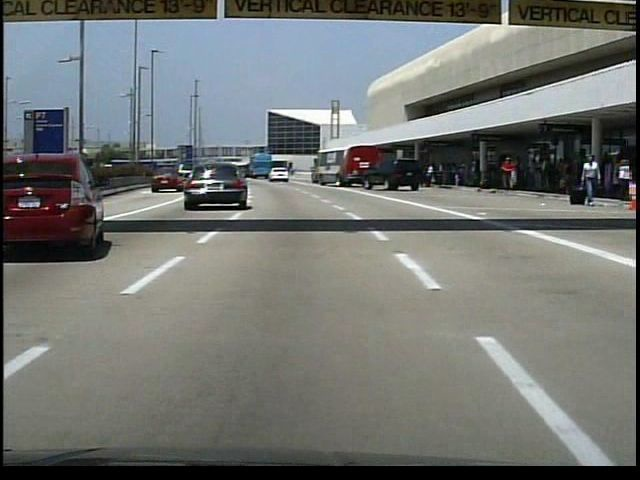person: (578, 152, 603, 207), (498, 154, 518, 191), (556, 157, 571, 194), (538, 153, 552, 190), (473, 157, 485, 187), (422, 163, 435, 190)
